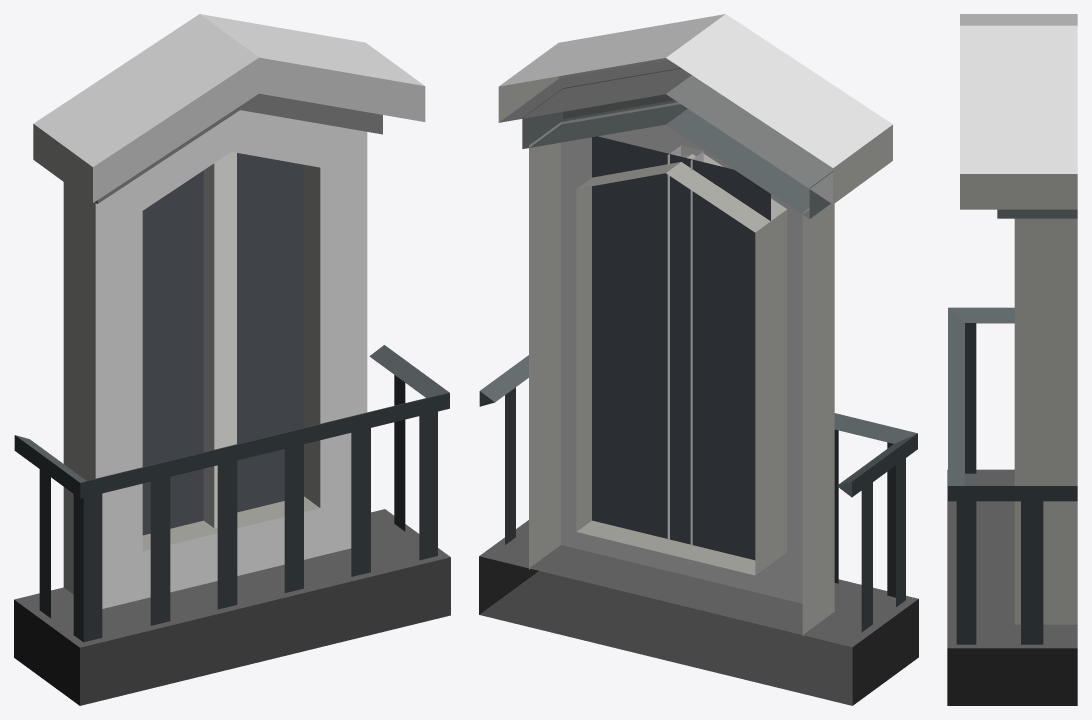
The model's file is TB_CITY_BD_Window_F.FBX.
3 views of the same model, side by side, from view 1: azimuth 30°, elevation 25°; view 2: azimuth 150°, elevation 25°; view 3: azimuth 270°, elevation 25° (orthographic).
Parts seen in each view (by area): view 1: TB_CITY_BD_Window_F; view 2: TB_CITY_BD_Window_F; view 3: TB_CITY_BD_Window_F.
Boxes of the visible parts, x1,y1,x2,y2 form: TB_CITY_BD_Window_F: (14, 14, 450, 705); TB_CITY_BD_Window_F: (479, 14, 918, 705); TB_CITY_BD_Window_F: (947, 14, 1077, 705).
Size of the model in its own units: 1.96 by 3.03 by 0.6036.
